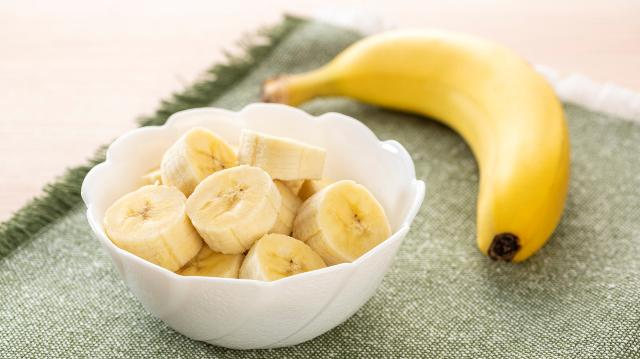Bananas: (339, 29, 573, 263)
